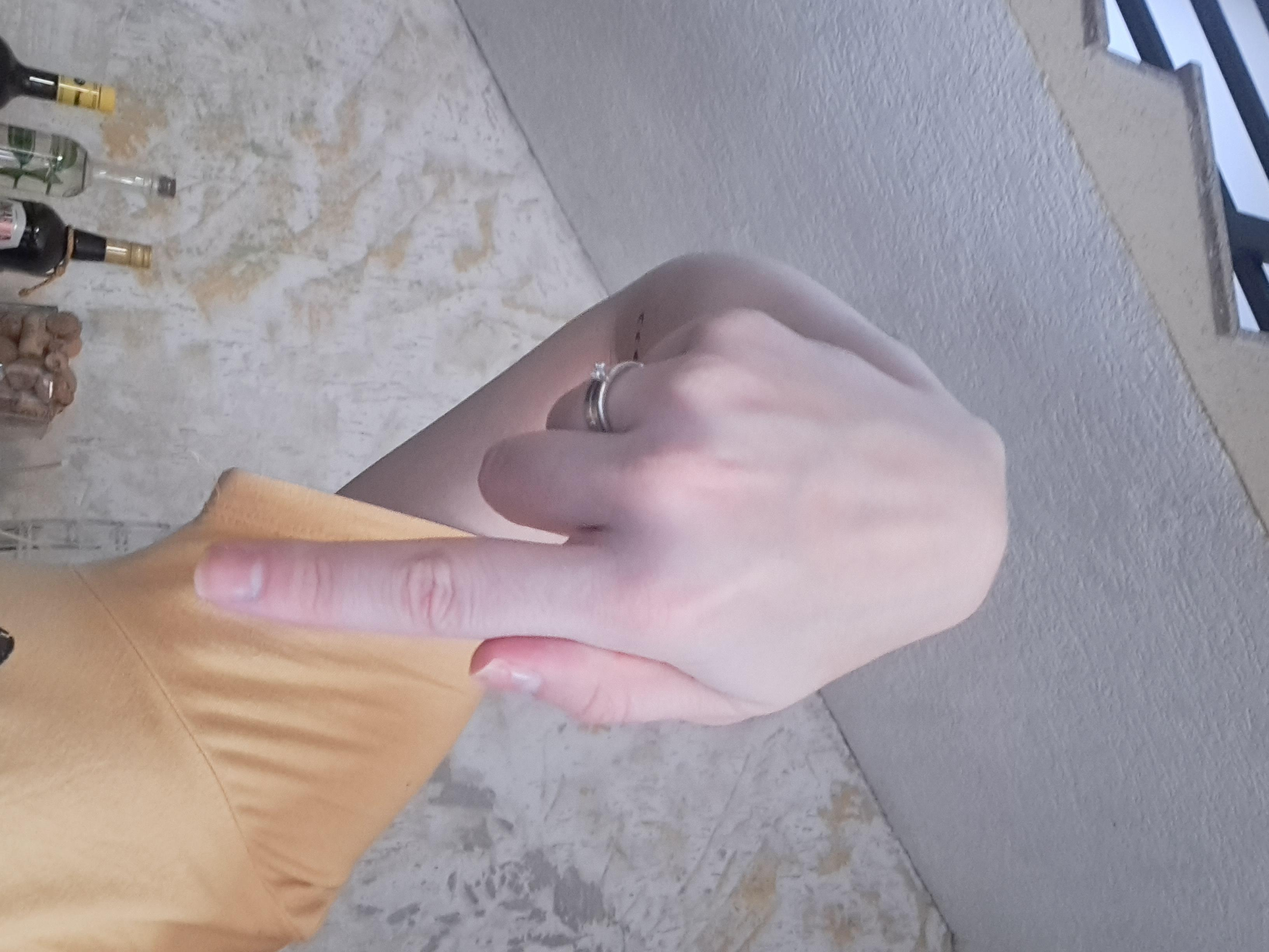Q: (410, 181, 980, 820)
